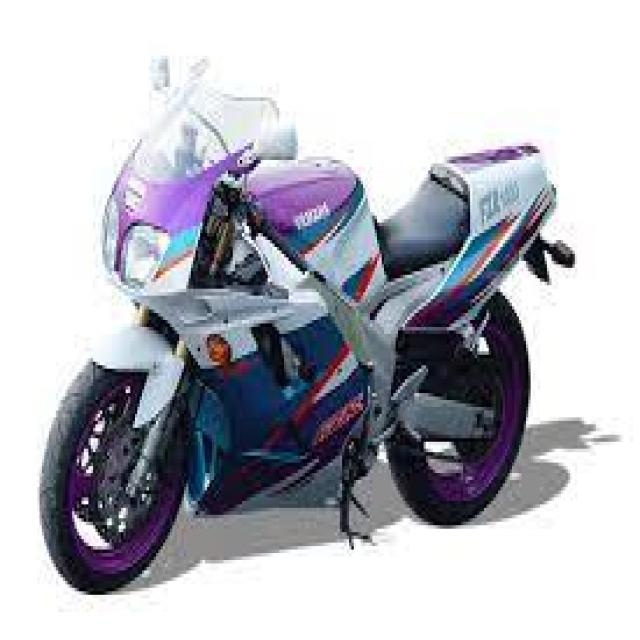Bike: (38, 53, 576, 598)
